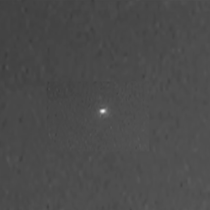Target: (101, 109, 106, 112)
